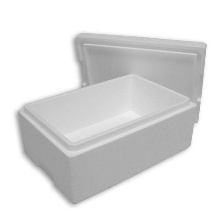foam_box: (11, 26, 212, 209)
